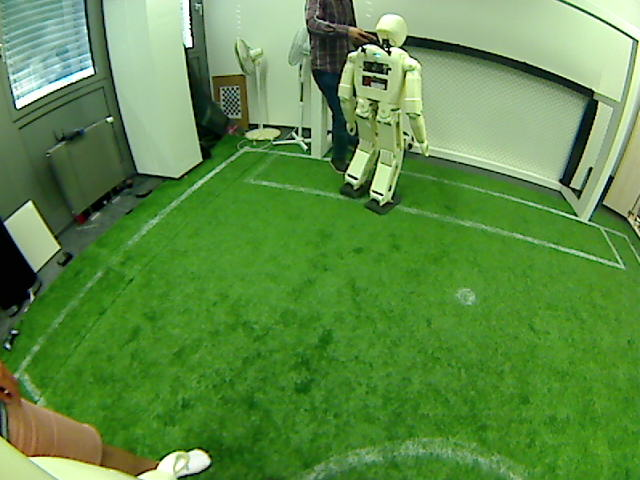ball: (404, 129, 413, 152)
goalpost: (573, 176, 596, 225), (307, 126, 324, 160)
robot: (333, 133, 399, 208)
